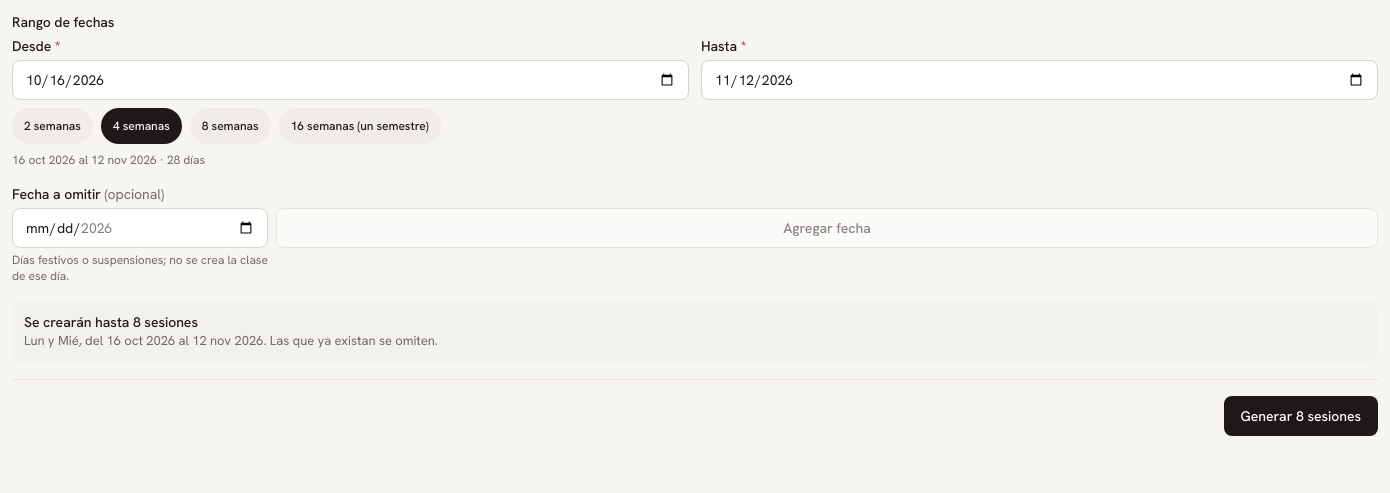
Test: GenerarSesiones › con el horario muestra cuántas sesiones se crearán y el botón lo dice
The image size is (1390, 493).
Type "2026-09-14" into the date field labelled "Desde *" at (350, 80), box left=12, top=60, right=689, bottom=100
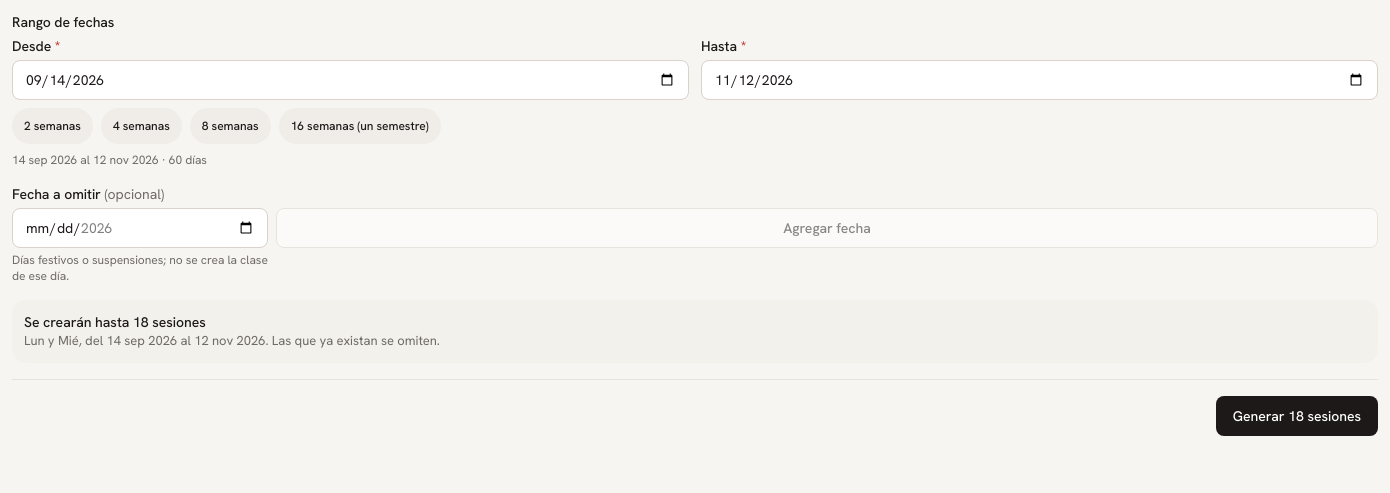
Type "2026-09-27" into the date field labelled "Hasta *" at (1040, 80), box left=701, top=60, right=1378, bottom=100
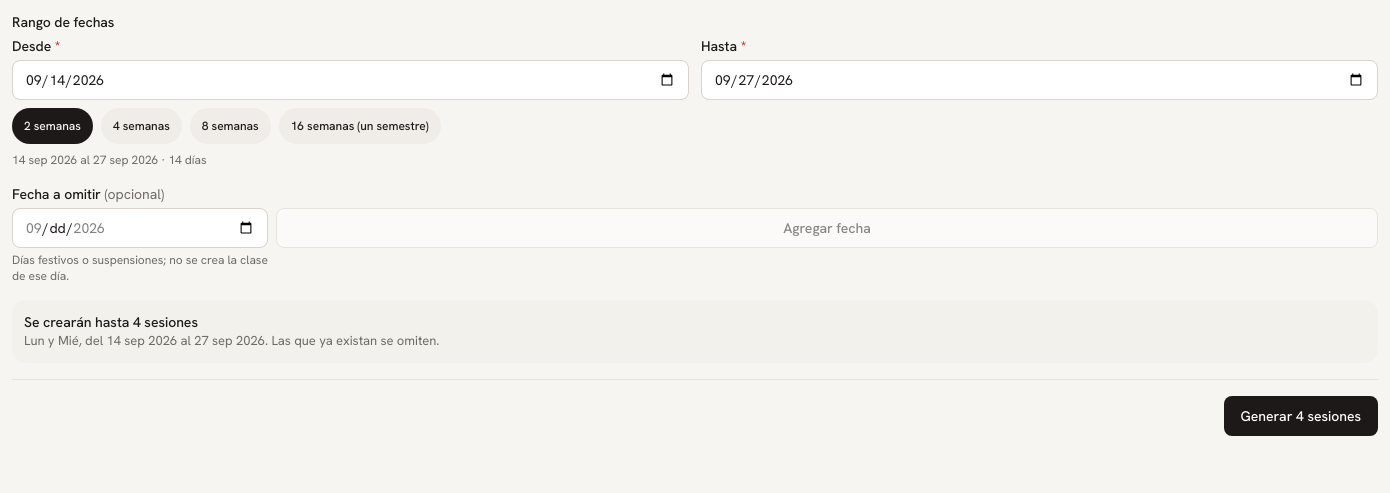
Check: the button "Generar 4 sesiones" is enabled, box left=1224, top=396, right=1378, bottom=436
Check: the text "Se crearán hasta 4 sesiones" is shown, box left=24, top=313, right=198, bottom=331
Type "2026-09-16" into the date field labelled "Fecha a omitir (opcional)" at (140, 228), box left=12, top=208, right=268, bottom=248
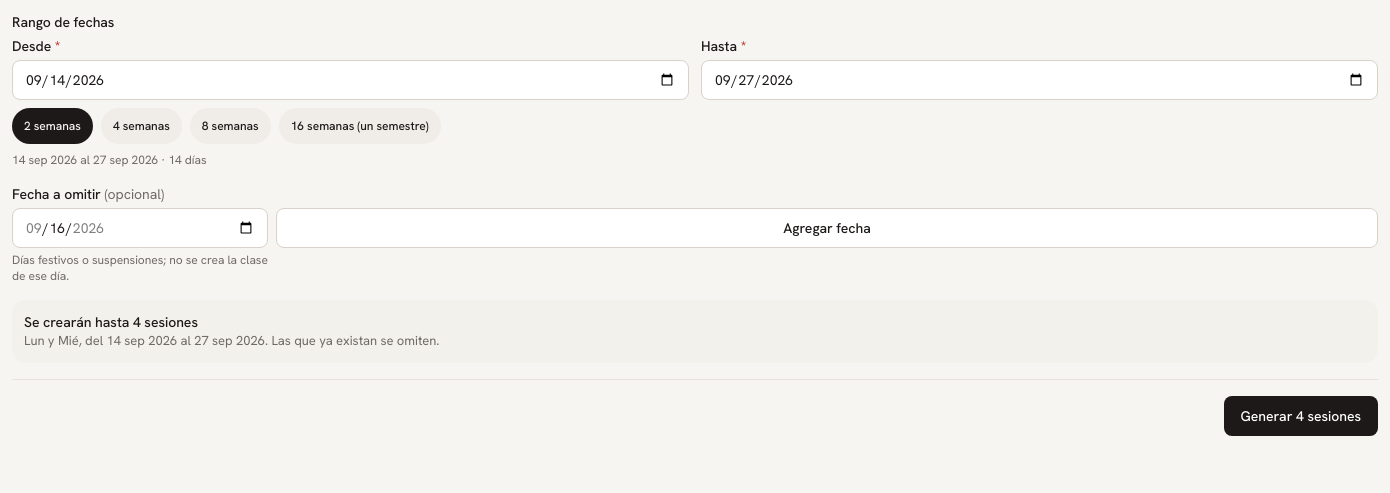
Click the button "Agregar fecha" at (827, 228), box left=276, top=208, right=1378, bottom=248
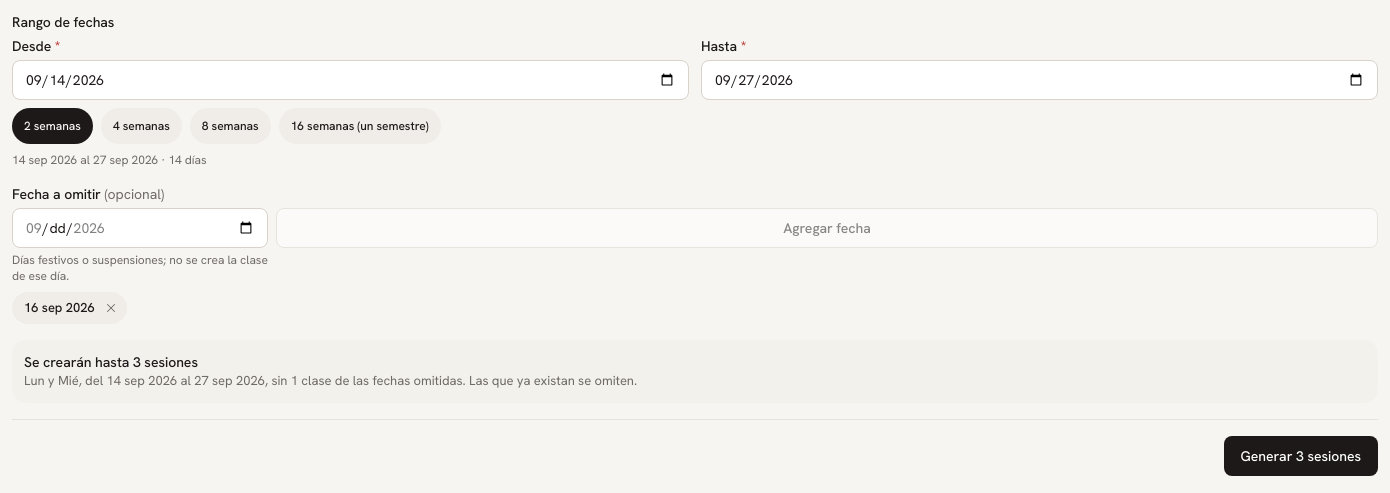
Check: the text "Se crearán hasta 3 sesiones" is shown, box left=24, top=353, right=198, bottom=371
Check: the text "sin 1 clase de las fechas omitidas" is shown, box left=265, top=372, right=463, bottom=389
